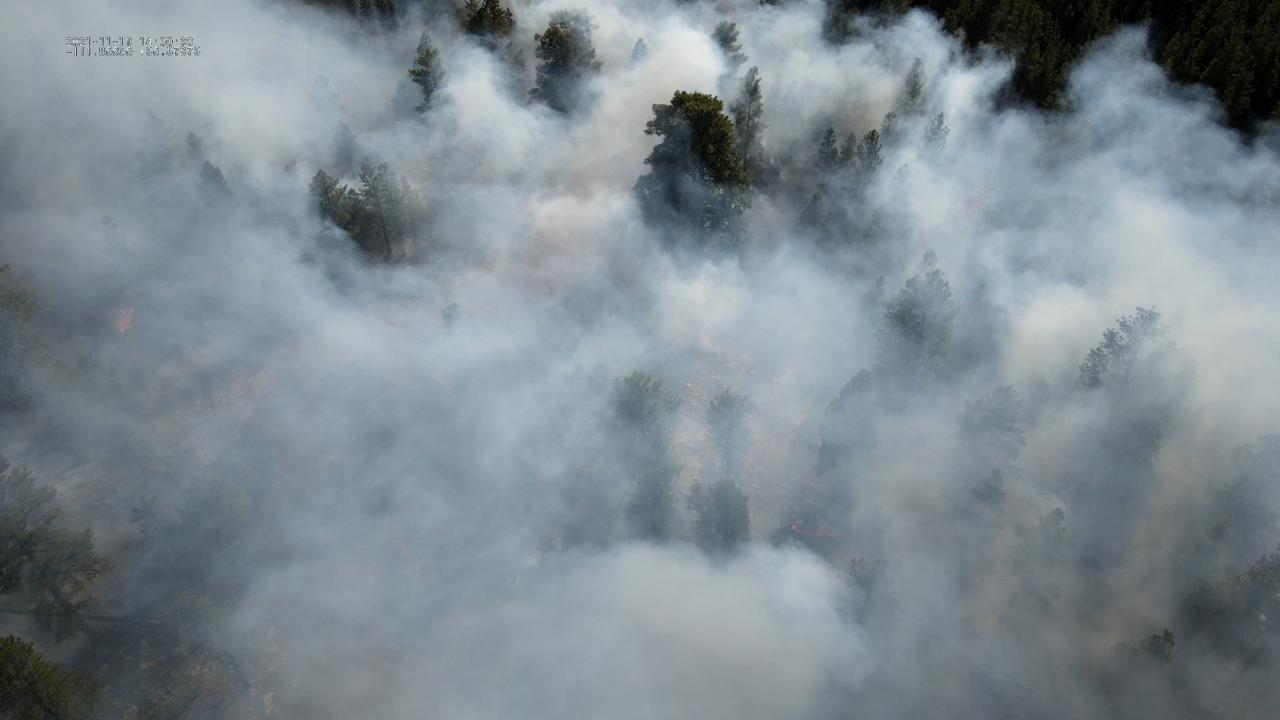fire: (114, 305, 137, 336)
smoke: (0, 0, 1280, 720)
